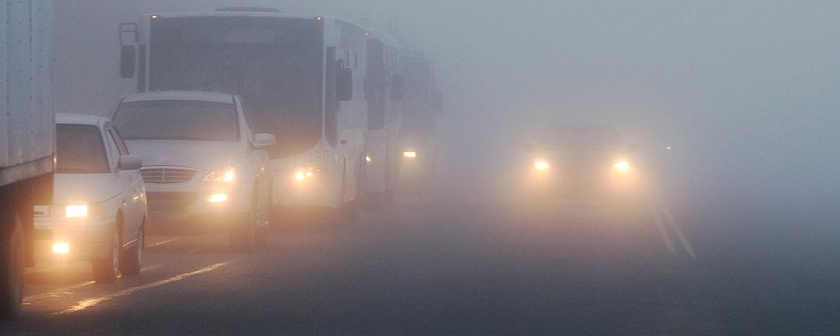bus: (116, 4, 371, 221), (259, 21, 410, 200), (354, 45, 441, 190)
car: (95, 88, 278, 258), (2, 112, 152, 286), (527, 124, 642, 193)
